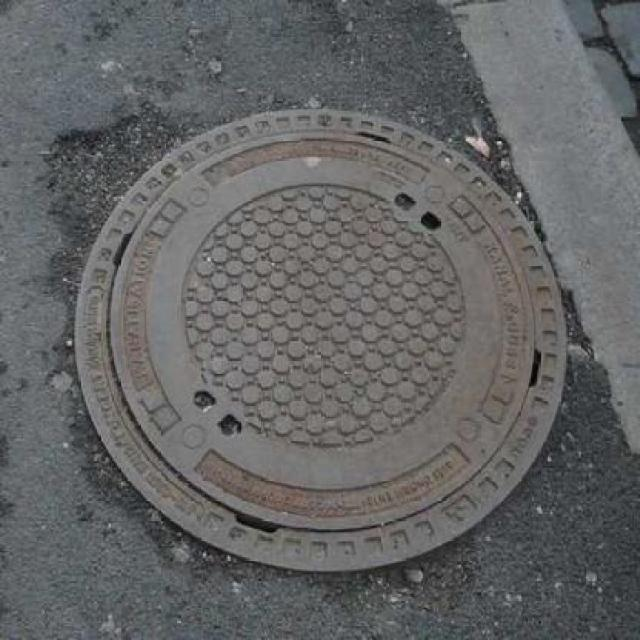Manhole: (72, 95, 591, 583)
